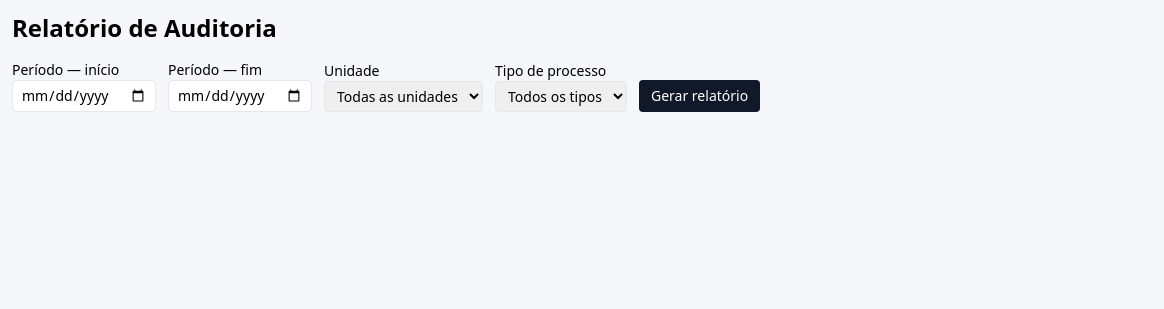
Scenario: RelatorioAuditoriaPage › renderiza o relatório com dados (US 9.2 Cen.1)
This screenshot has width=1164, height=309.
Click the button "Gerar relatório".
click(700, 96)  # box [639,80,760,112]
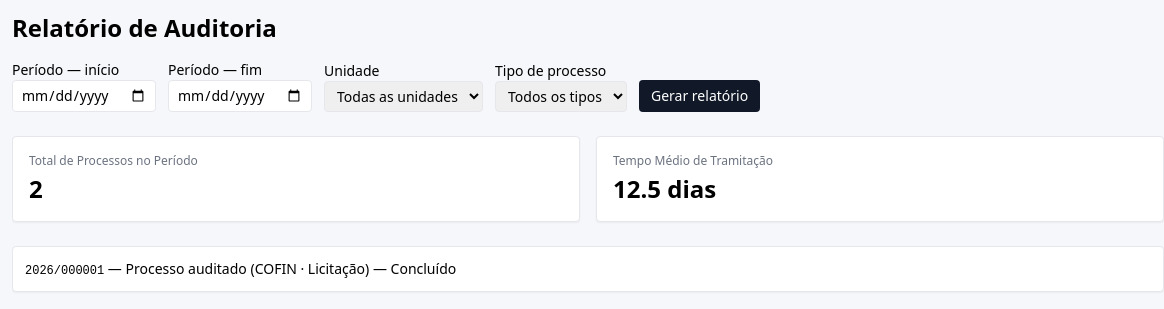
Now the element with test id "relatorio-total" shows "2", box [29,172,43,205]
Now the element with test id "relatorio-tempo-medio" shows "12.5 dias", box [613,172,716,205]
Now the list with test id "relatorio-lista" shows "2026/000001", box [25,264,104,278]
